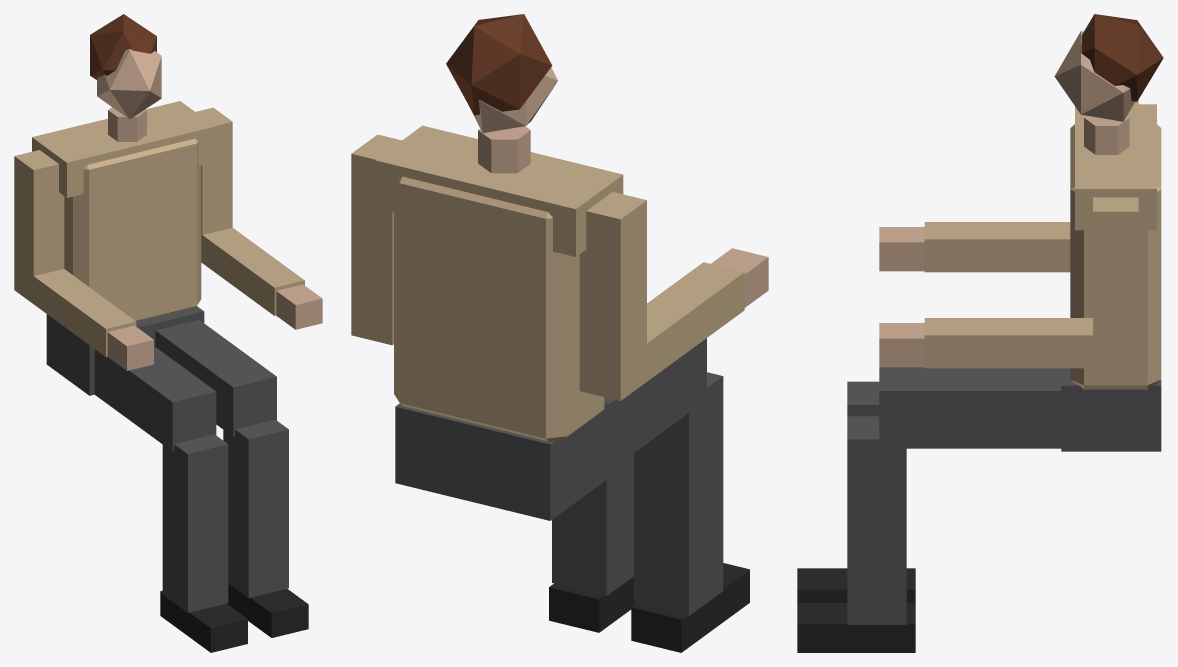
The model's file is person_seated_b.glb.
The picture shows the model from 3 angles, left to right: view 1: azimuth 30°, elevation 25°; view 2: azimuth 150°, elevation 25°; view 3: azimuth 270°, elevation 25°; orthographic projection. The views are drawn at different scales.
Visible parts, largest first — view 1: Body_LOD0; view 2: Body_LOD0; view 3: Body_LOD0.
Part boxes in pixels (bbox=[...]): Body_LOD0: bbox=[14, 14, 322, 652]; Body_LOD0: bbox=[351, 14, 768, 652]; Body_LOD0: bbox=[797, 14, 1163, 652].
Bounding box in the file's own units: 0.59 × 1.47 × 0.805.
